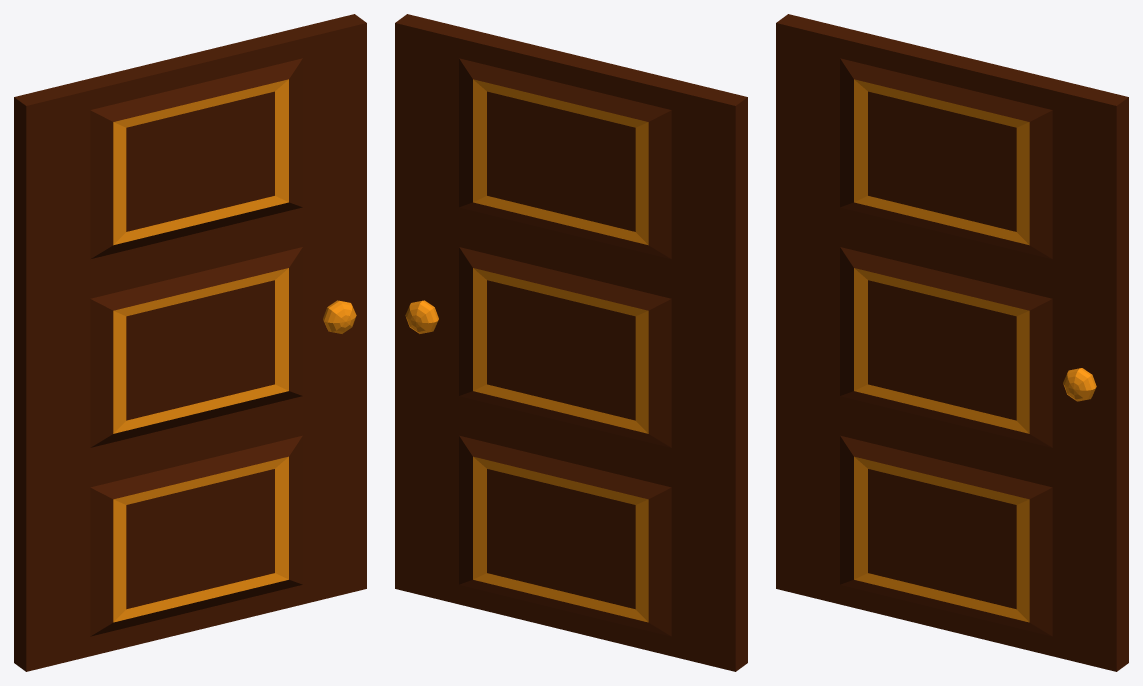
The model's file is door.fbx.
3 renders of one model, left to right at view 1: azimuth 30°, elevation 25°; view 2: azimuth 150°, elevation 25°; view 3: azimuth 330°, elevation 25°, orthographic.
Parts seen in each view (by area): view 1: Cube; view 2: Cube; view 3: Cube.
Part boxes in pixels (box(x1,y1,x2,y2)): Cube: box(14, 14, 366, 671); Cube: box(395, 14, 747, 671); Cube: box(776, 14, 1128, 671).
Size of the model in its own units: 126 by 200 by 22.01.
